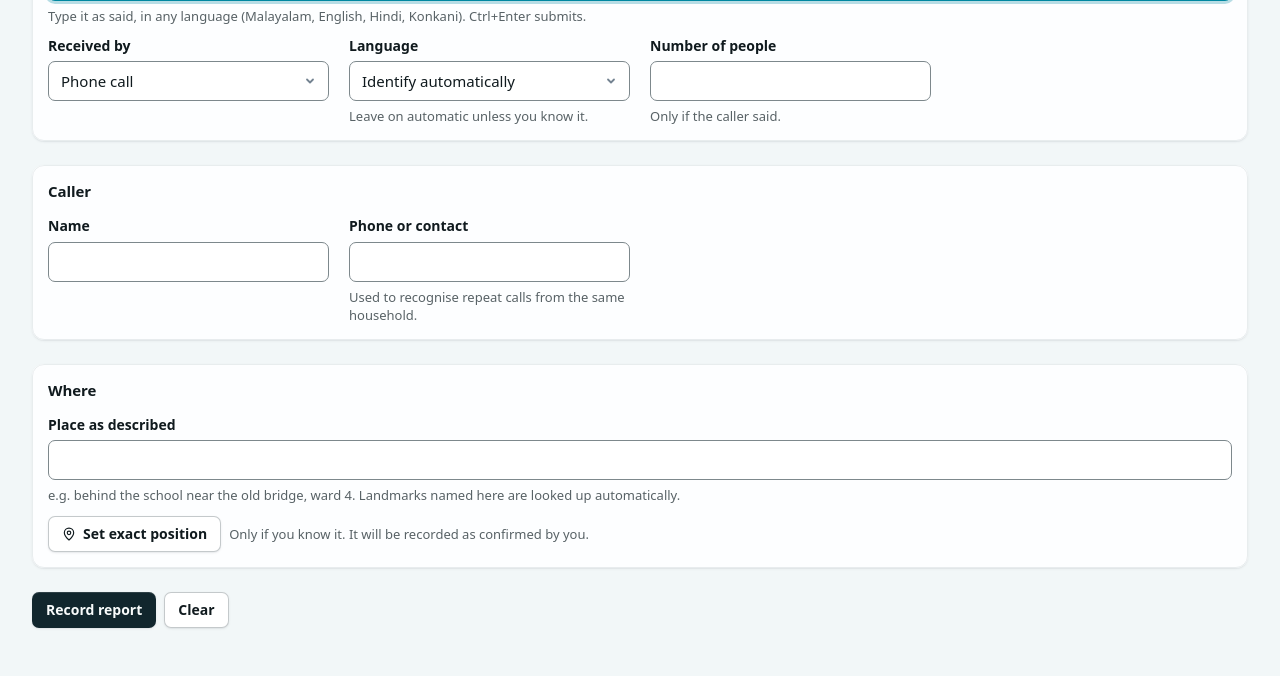
Test: intake form › requires the report text before sending anything
(page scrolled)
Step 1. Click the button "Record report" → click(94, 610), box x1=32 y1=592 x2=156 y2=628
(page scrolled)
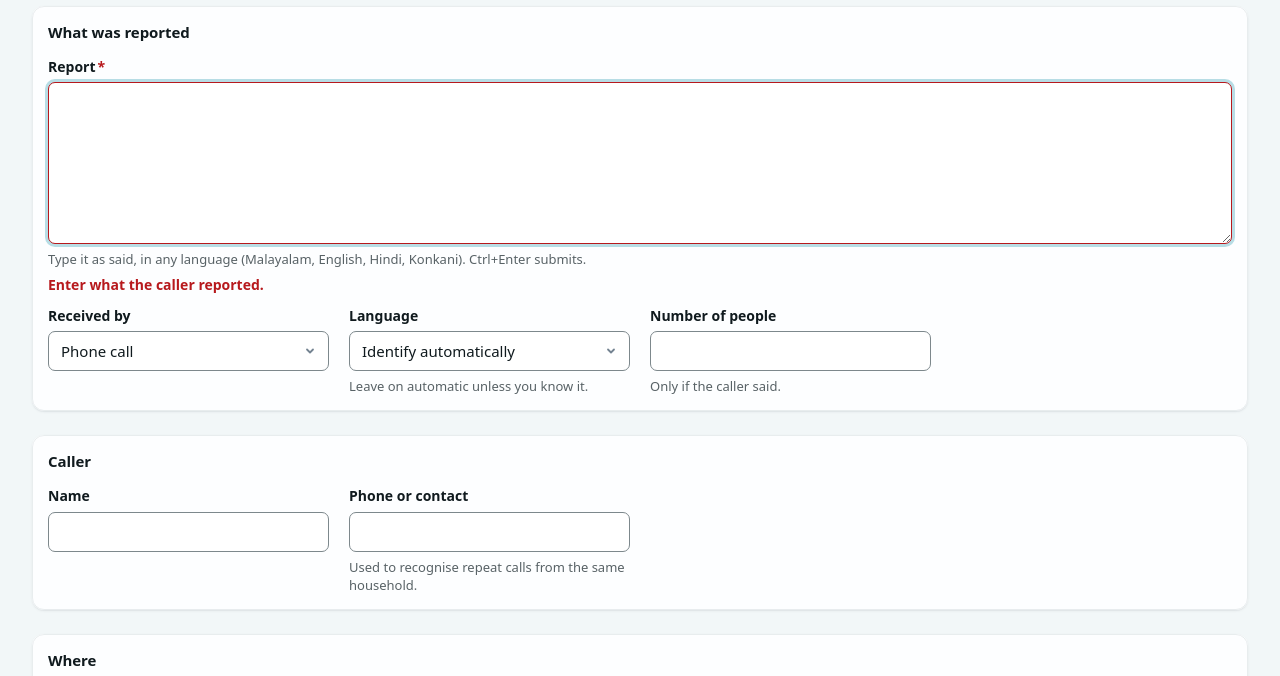
Check: the message shows "Enter what the caller reported", box x1=48 y1=275 x2=264 y2=294
